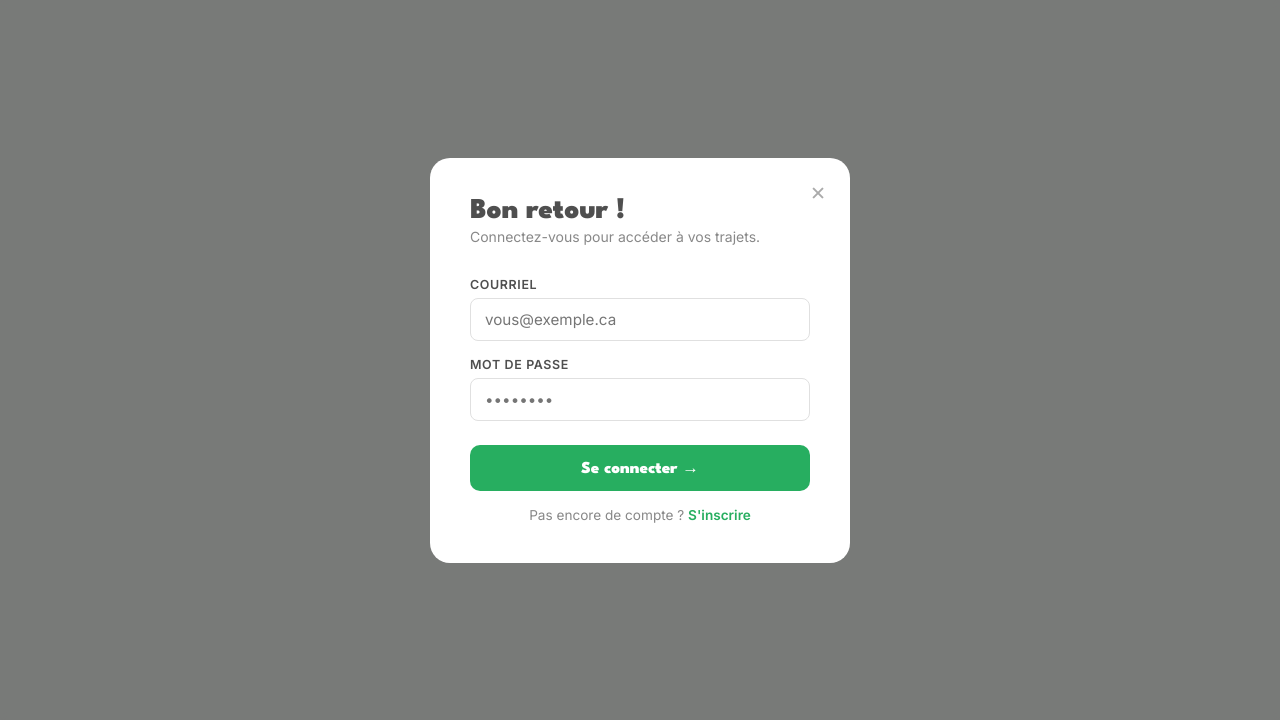
Test: AuthModal — mode connexion › affiche un message d'erreur 401 retourné par le serveur
Type "a@b.ca" into the field labelled "Courriel".
click(640, 319); type("a@b.ca")  # box x1=470 y1=298 x2=810 y2=340
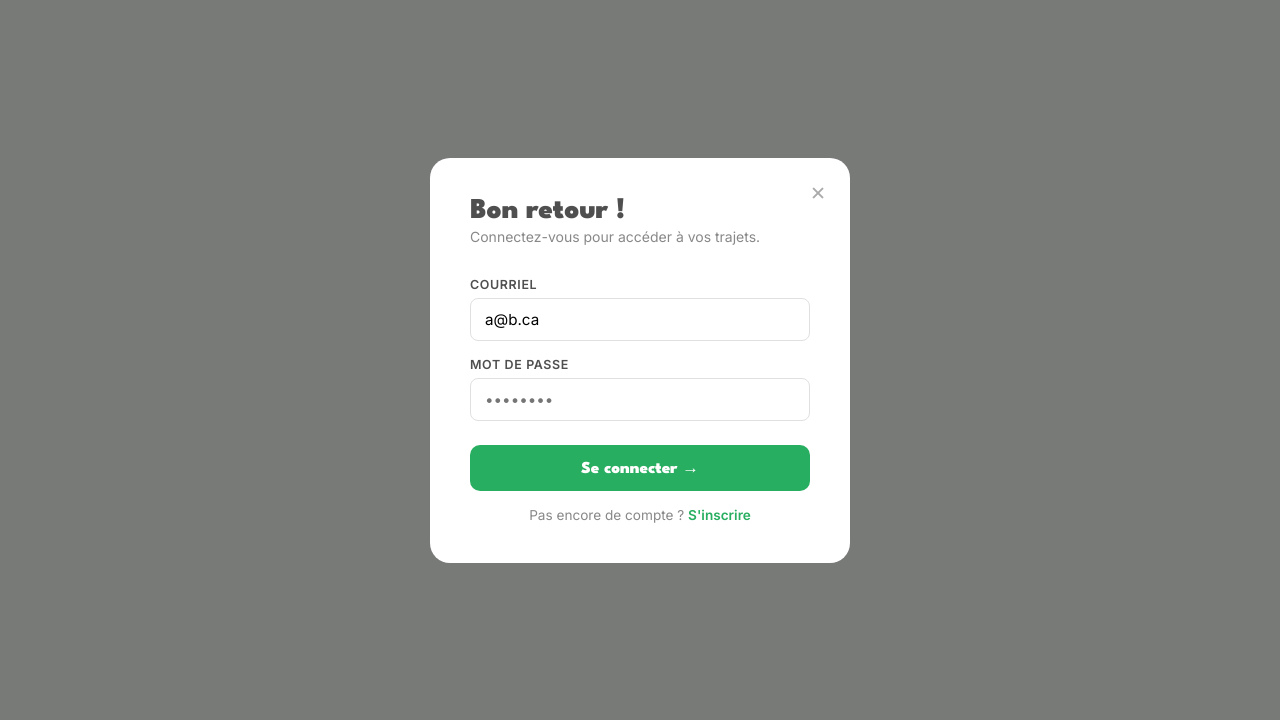
Type "wrongpass" into the password field labelled "Mot de passe".
click(640, 399); type("wrongpass")  # box x1=470 y1=378 x2=810 y2=420
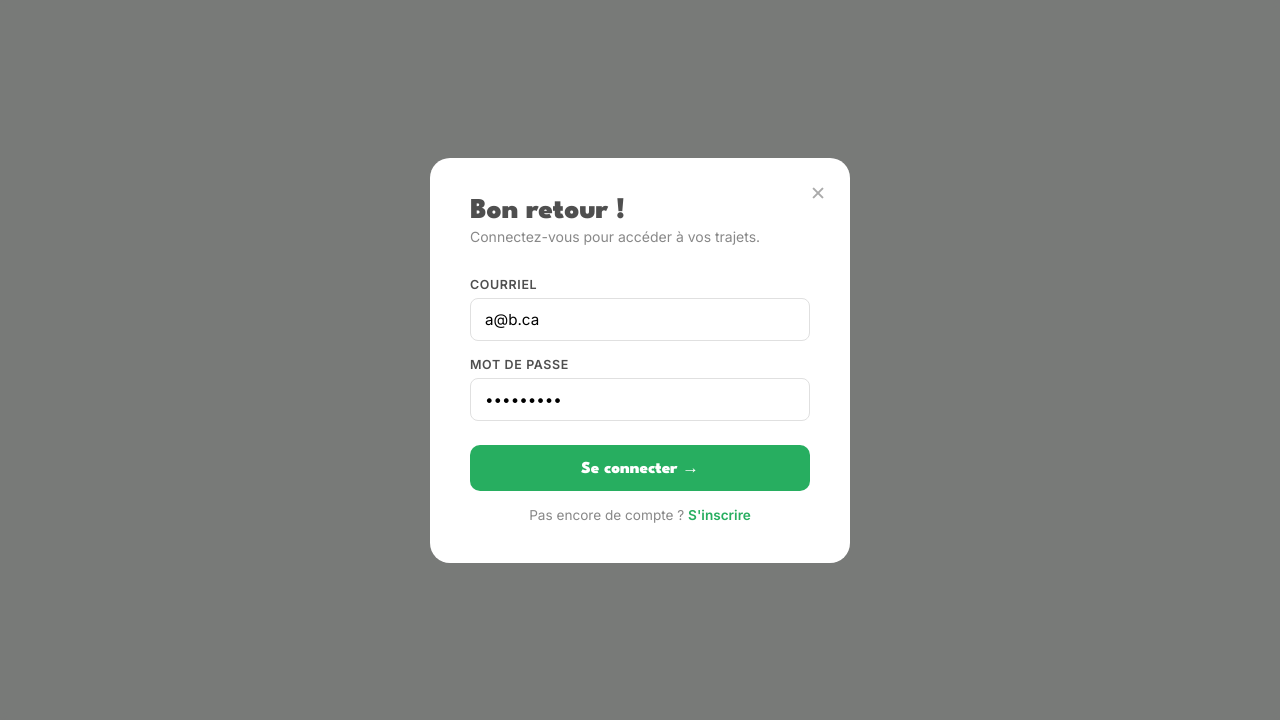
Click the button "Se connecter →".
click(640, 468)  # box x1=470 y1=444 x2=810 y2=490
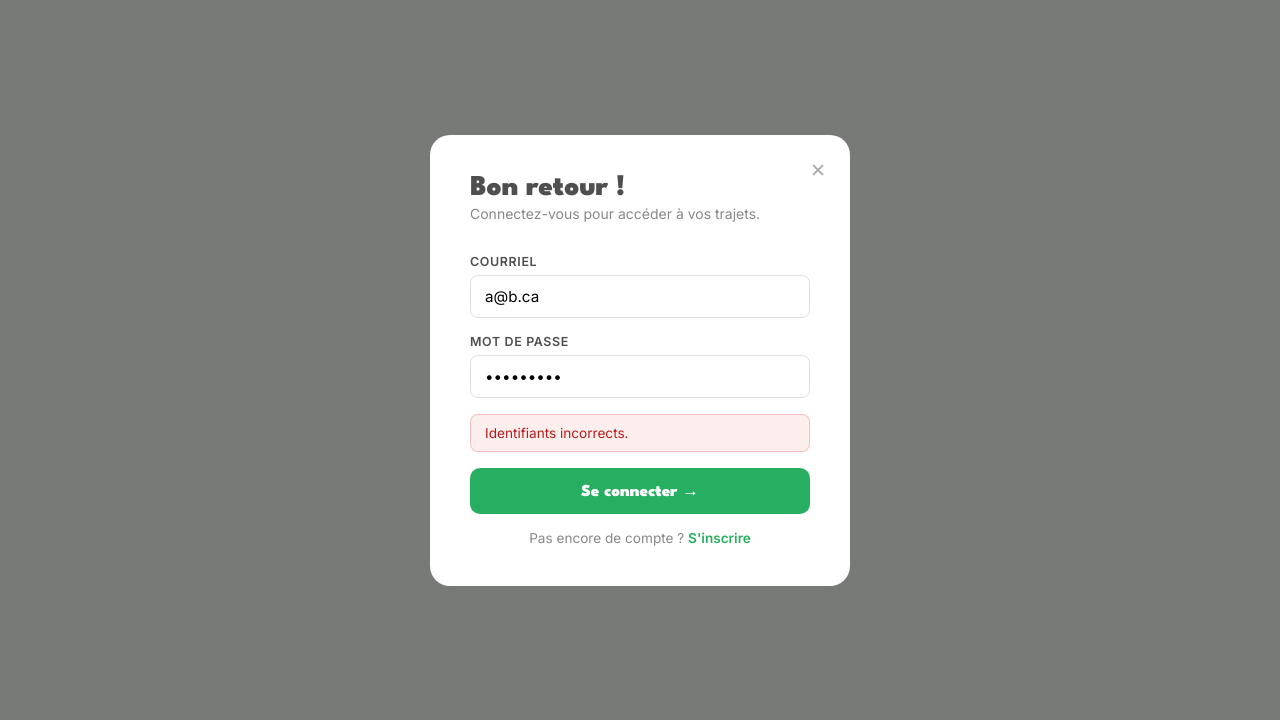
Check: the text "Identifiants incorrects." is shown, box x1=470 y1=414 x2=810 y2=452
